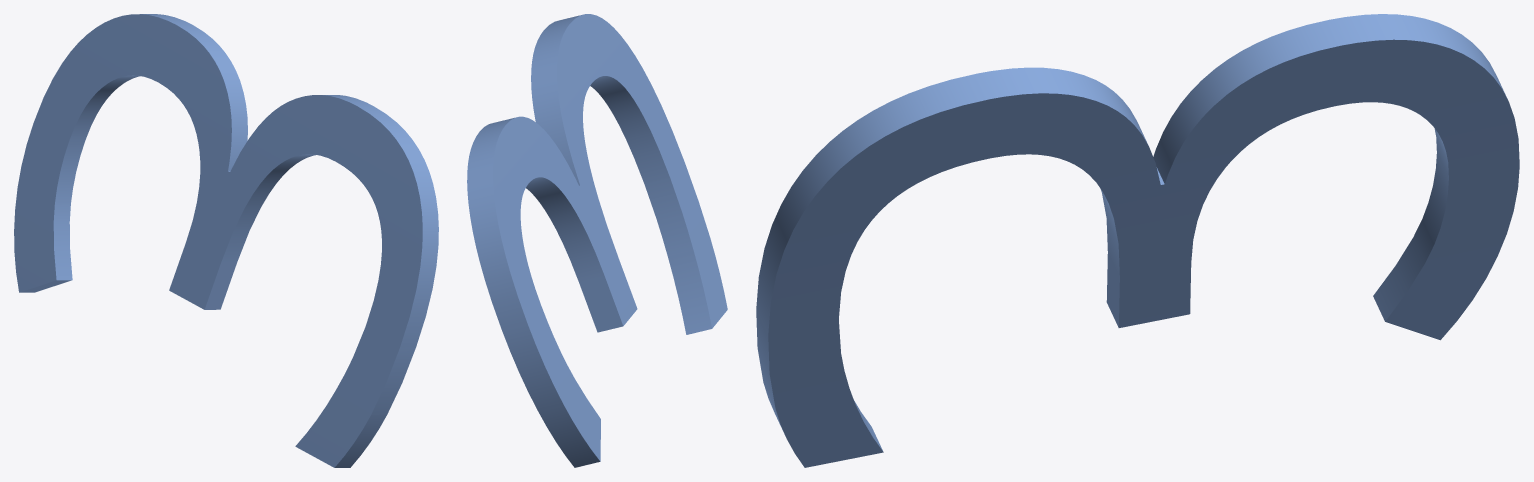
The model's file is New_Number_3.gltf.
3 renders of one model, left to right at view 1: azimuth 30°, elevation 25°; view 2: azimuth 150°, elevation 25°; view 3: azimuth 270°, elevation 25°, orthographic. The views are drawn at different scales.
Parts seen in each view (by area): view 1: Part 714; view 2: Part 714; view 3: Part 714.
Boxes of the visible parts, left/top/right/bottom form: Part 714: left=14, top=14, right=438, bottom=467; Part 714: left=467, top=14, right=727, bottom=467; Part 714: left=756, top=14, right=1519, bottom=467.
Bounding box in the file's own units: 0.0024 × 0.00333 × 0.00508.
